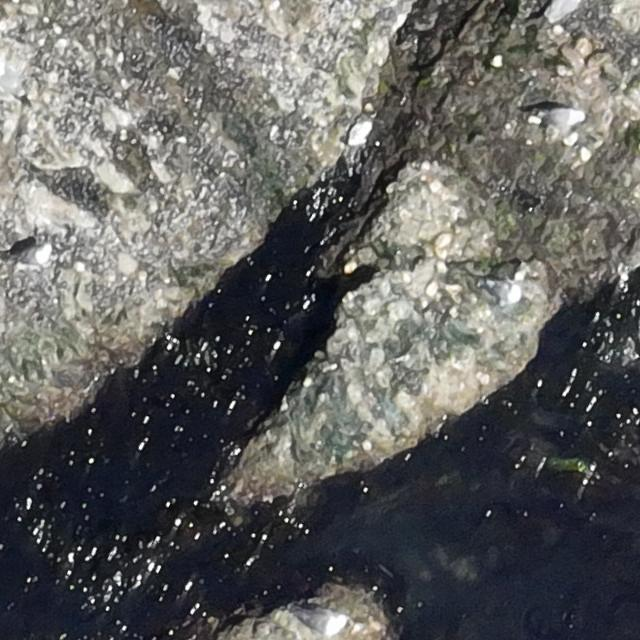umineko: (288, 602, 348, 635), (538, 104, 592, 128), (13, 242, 55, 269), (490, 276, 525, 304)
